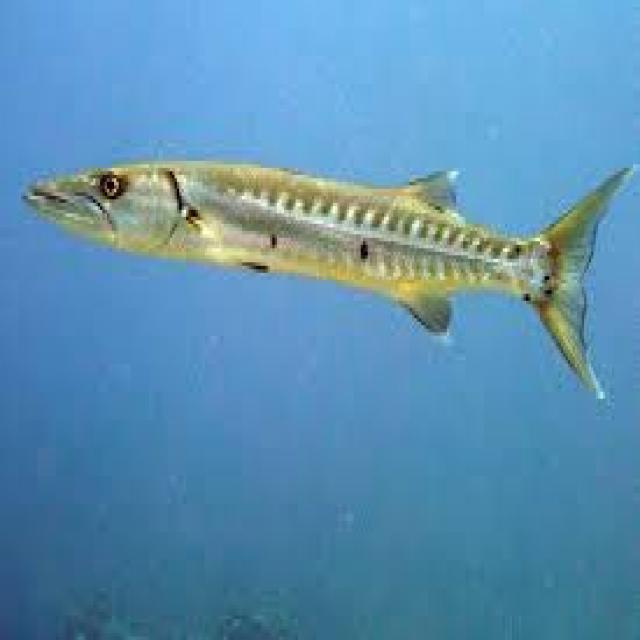Barracuda: (18, 161, 640, 406)
